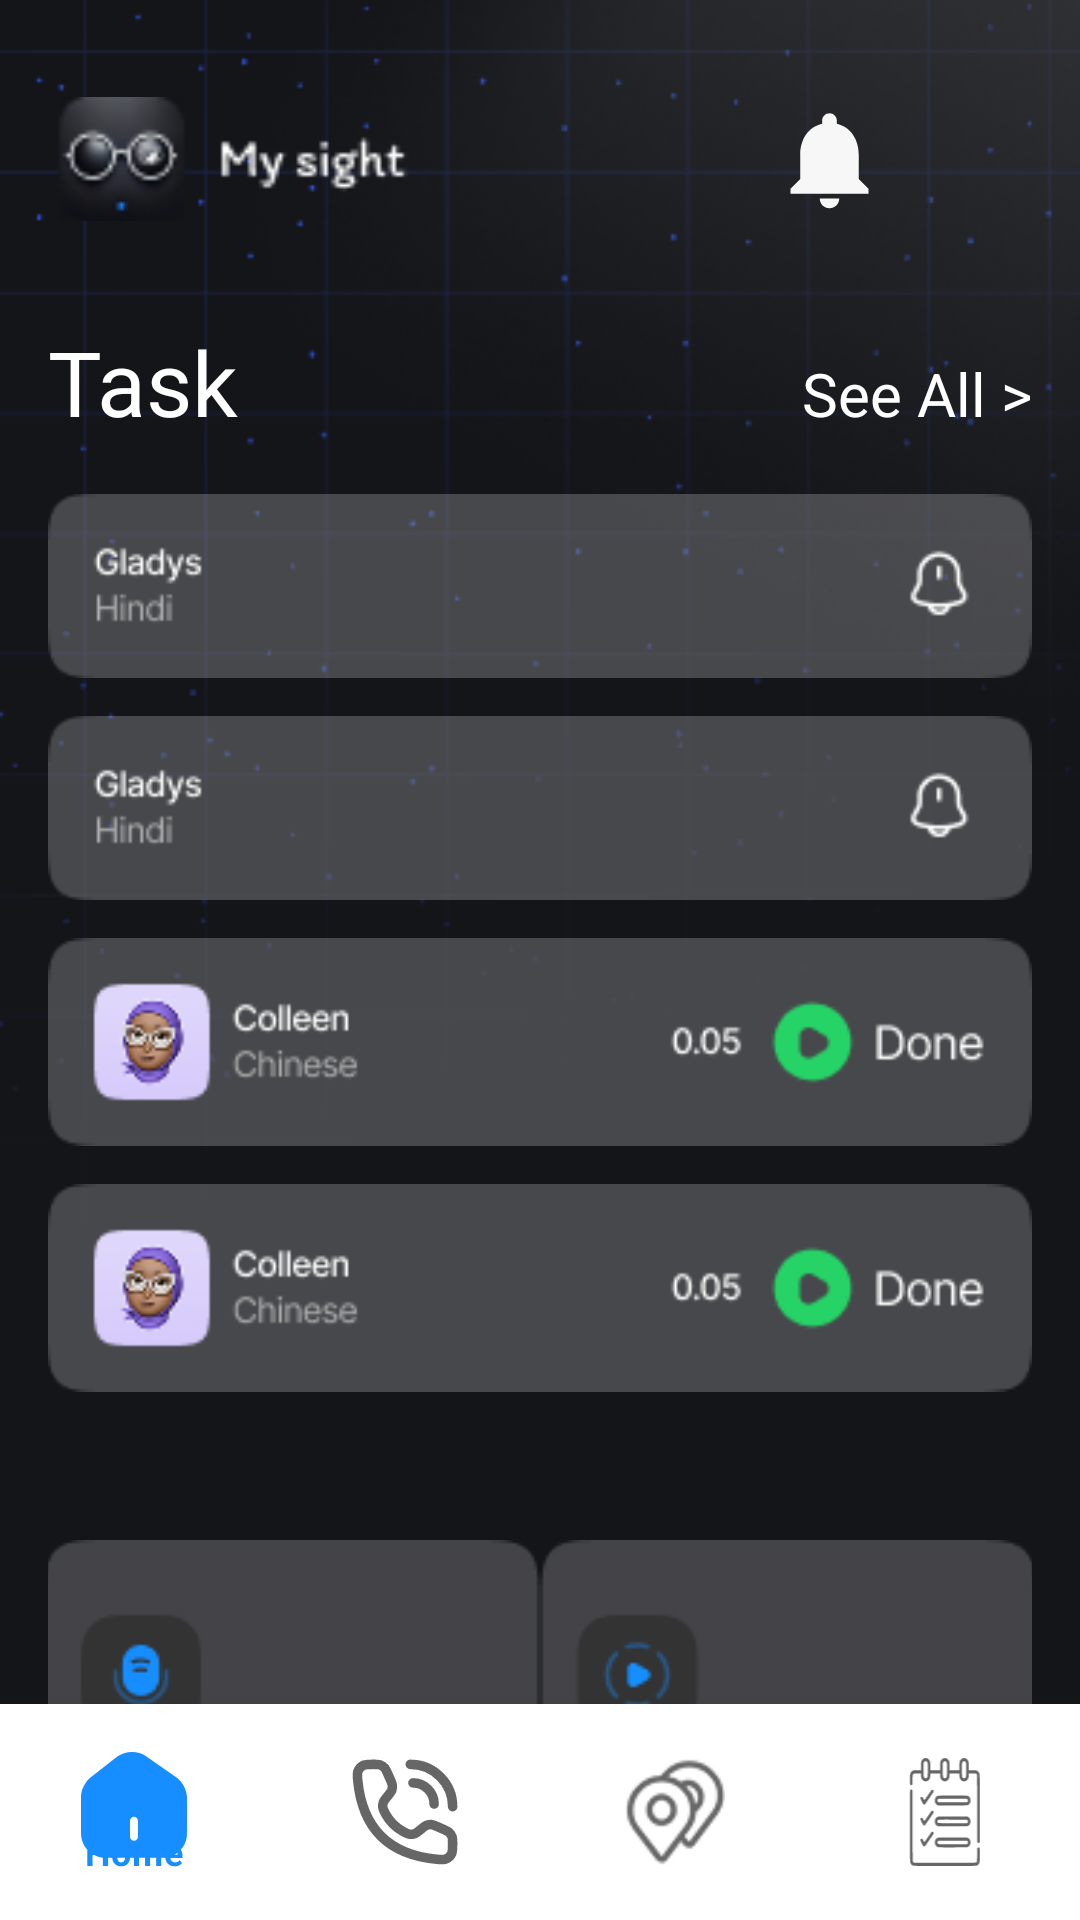

Icons on this 1080 × 1920 Android screen, each with its box as (x1, y1, x2, y2):
notification: (790, 113, 869, 209)
